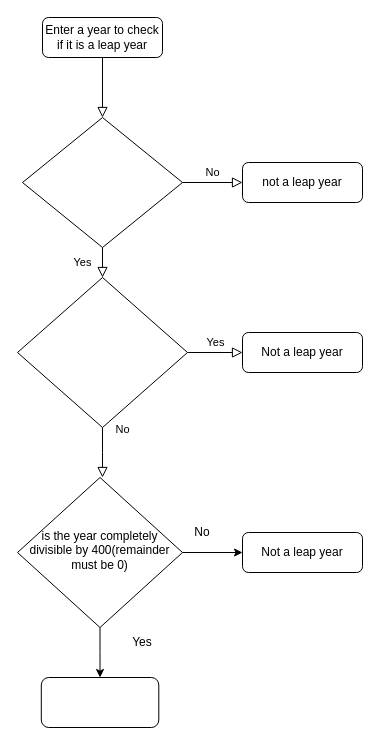
Image size: 380x745. Some labels were removed from this diagram. The centre of each missing label's shape, as x and y in pixels:
entered year is a leap year: the point at 99,702
is the year completely divisible by 100(remainder must be 0): the point at 102,352
is the year completely divisible by 4(remainder must be 0): the point at 102,182
